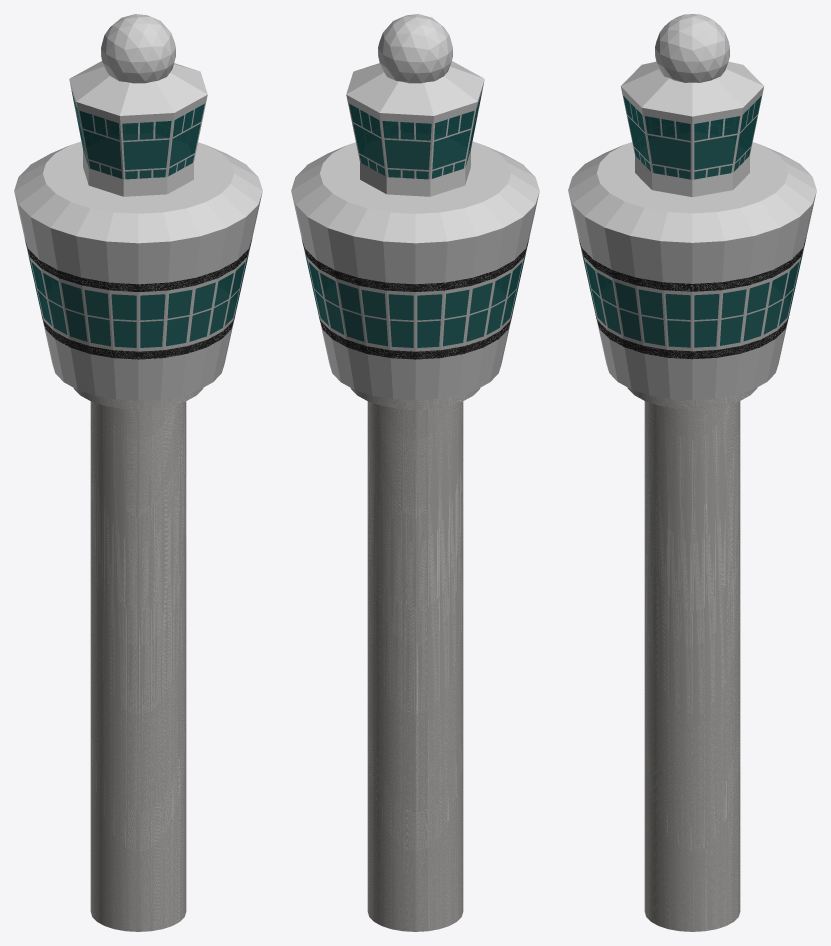
File: tower.dae
3 renders of one model, left to right at view 1: azimuth 30°, elevation 25°; view 2: azimuth 150°, elevation 25°; view 3: azimuth 270°, elevation 25°, orthographic.
Visible parts, largest first — view 1: group_0 (×15), CONTROLROOM (×4), GeodesicSphere02; view 2: group_0 (×15), CONTROLROOM (×4), GeodesicSphere02; view 3: group_0 (×15), CONTROLROOM (×3), GeodesicSphere02.
Boxes of the visible parts, x1,y1,x2,y2 form: group_0 (×15): (14,141,262,931); CONTROLROOM (×4): (69,61,207,196); GeodesicSphere02: (101,14,175,83); group_0 (×15): (291,141,539,931); CONTROLROOM (×4): (346,61,484,196); GeodesicSphere02: (378,14,452,83); group_0 (×15): (568,142,816,931); CONTROLROOM (×3): (620,61,764,197); GeodesicSphere02: (655,14,729,82).
Size of the model in its own units: 1024 by 1024 by 4062.
